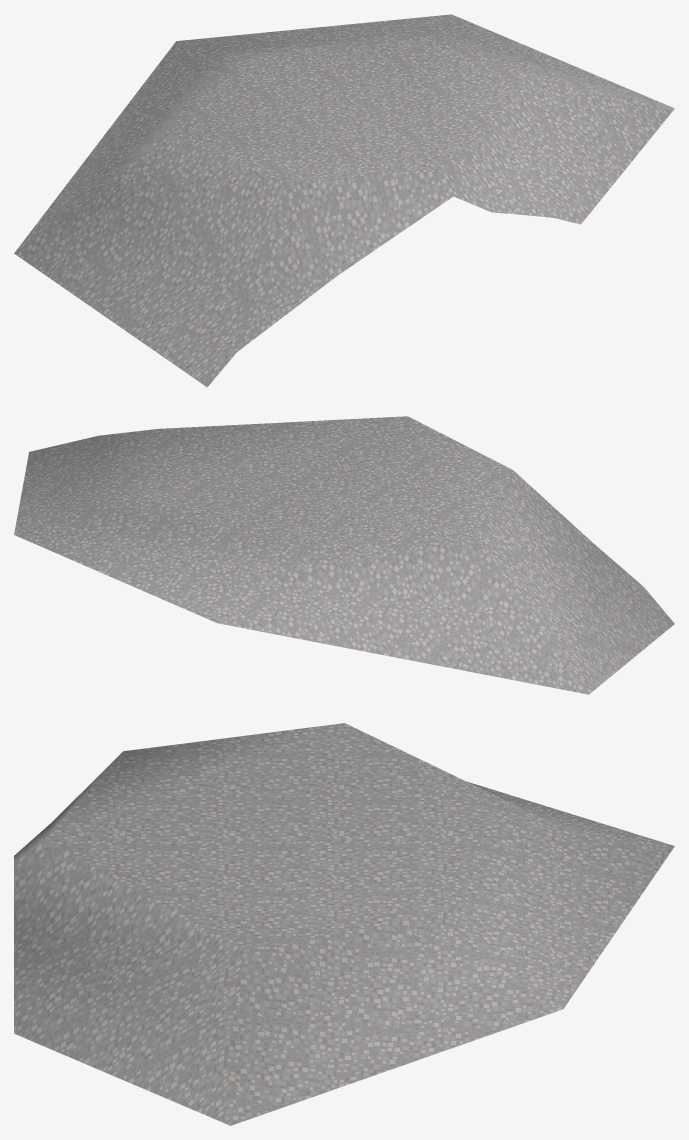
The model's file is kd_stage_135fe0_0_12_bounded.glb.
3 renders of one model, top to bottom at view 1: azimuth 30°, elevation 25°; view 2: azimuth 150°, elevation 25°; view 3: azimuth 270°, elevation 25°, orthographic. The views are drawn at different scales.
Visible parts, largest first — view 1: kd_stage_135fe0_0_12_bounded; view 2: kd_stage_135fe0_0_12_bounded; view 3: kd_stage_135fe0_0_12_bounded.
Part boxes in pixels (x1,y1,x2,y2): kd_stage_135fe0_0_12_bounded: [14, 14, 674, 387]; kd_stage_135fe0_0_12_bounded: [14, 416, 674, 694]; kd_stage_135fe0_0_12_bounded: [14, 723, 674, 1125].
Size of the model in its own units: 19.42 by 4.59 by 13.24.
Materials: 1 (1 with a texture image).
